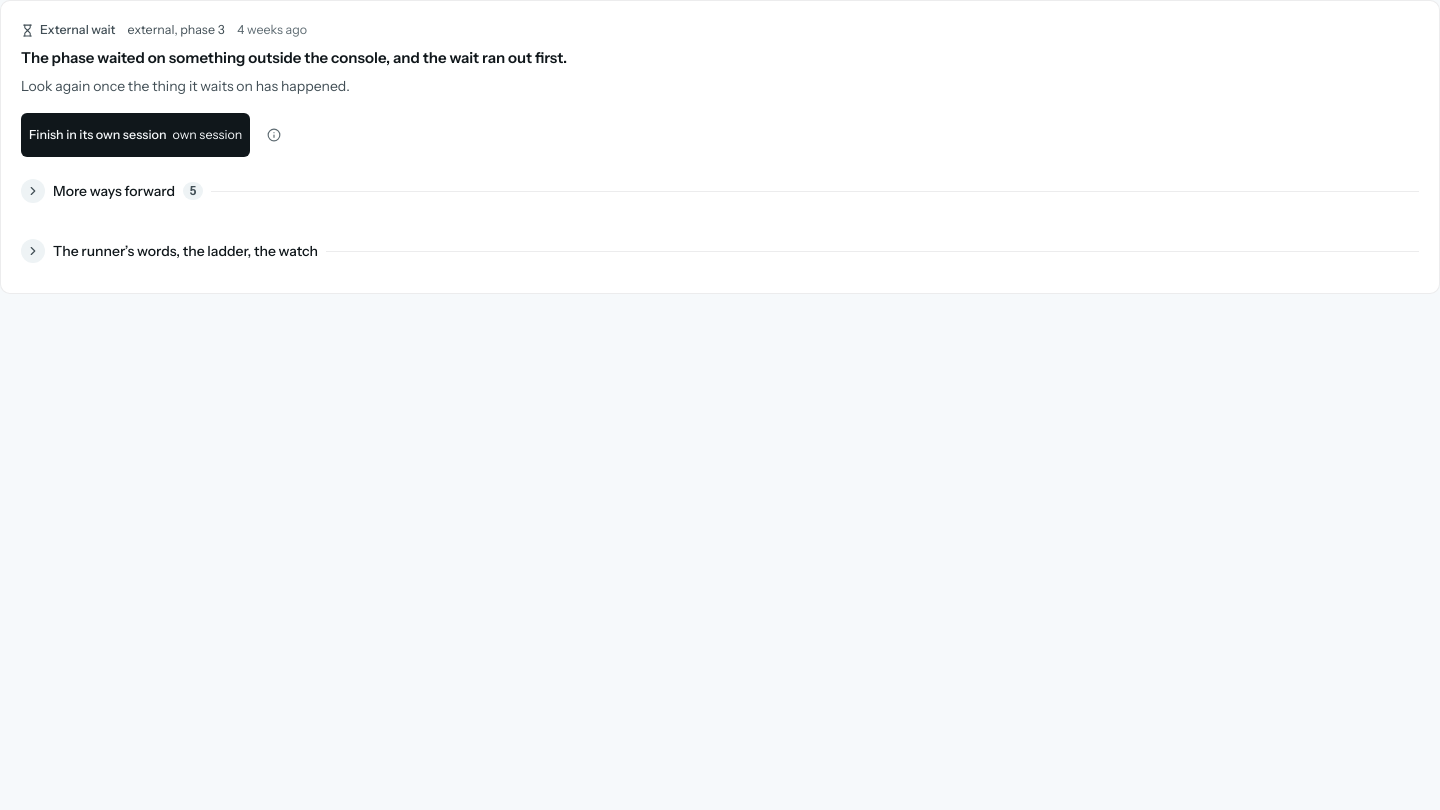
Test: the card names the family, one sentence, and the ONE recommended recovery › external: the recommended verb is drawn first and alone — every other way forward is one press behind it
Expected: the button "Resume with an instruction" is not shown
Expected: the button "Re-check" is not shown
Click the text "More ways forward" at (114, 191), box [53,181,175,202]
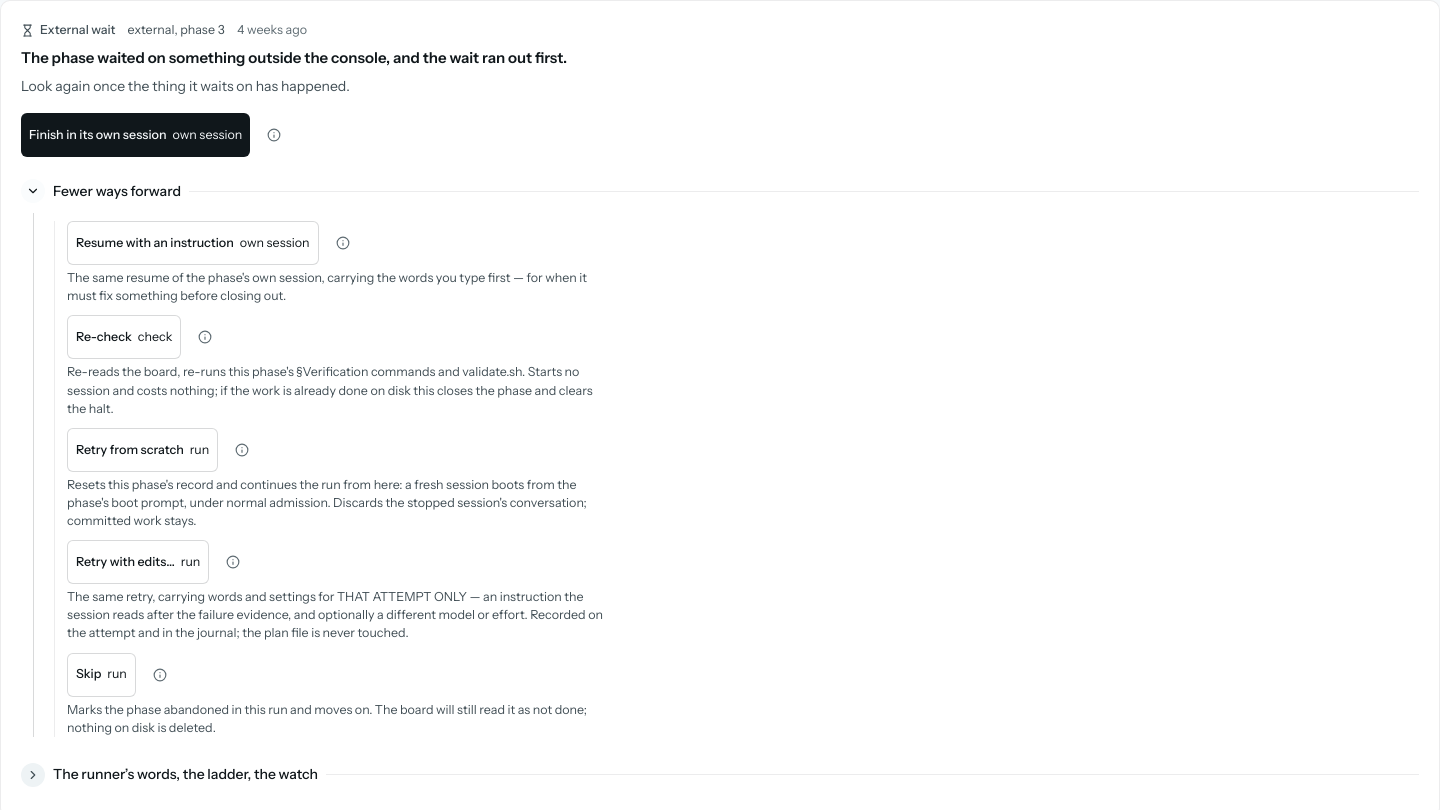
Result: the button "Resume with an instruction own session" is shown at [67,221,318,265]
Result: the button "Re-check check" is shown at [67,315,181,359]
Result: the button "Retry from scratch run" is shown at [67,428,218,472]
